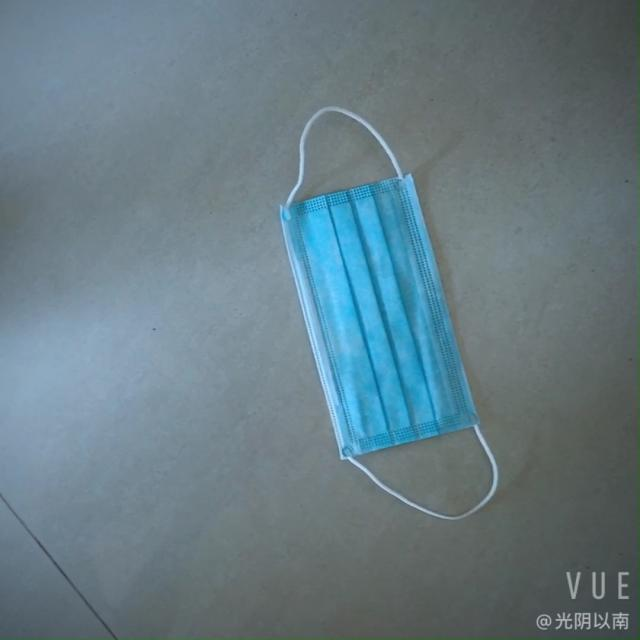non-organic waste: (285, 160, 462, 477)
